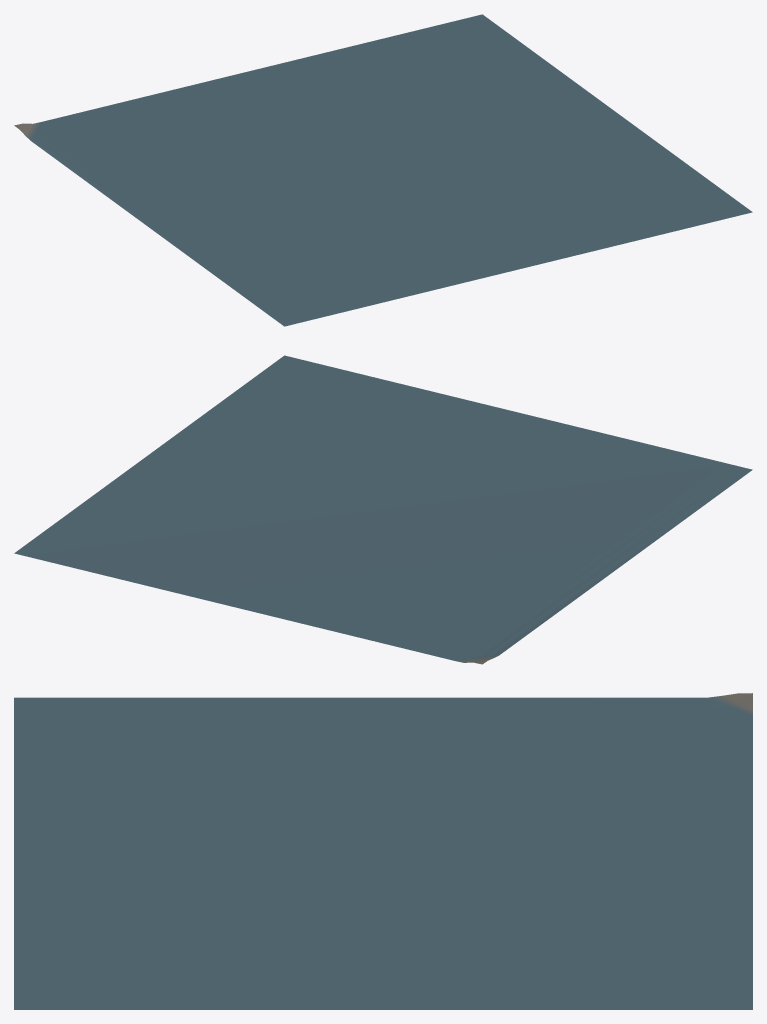
3 renders of one model, top to bottom at view 1: azimuth 30°, elevation 25°; view 2: azimuth 150°, elevation 25°; view 3: azimuth 270°, elevation 25°, orthographic. The views are drawn at different scales.
Visible parts, largest first — view 1: ground; view 2: ground; view 3: ground.
Boxes of the visible parts, <box> form: ground: <box>14,14,752,326</box>; ground: <box>14,355,752,664</box>; ground: <box>14,693,752,1009</box>.
Size of the model in its own units: 500 by 3.27 by 500.
